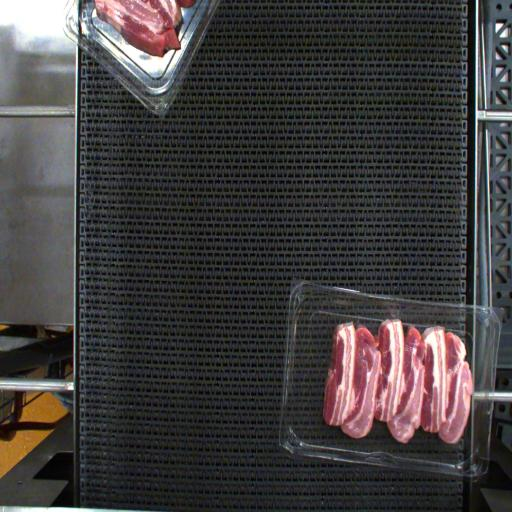packaging-error: (389, 306, 403, 326)
